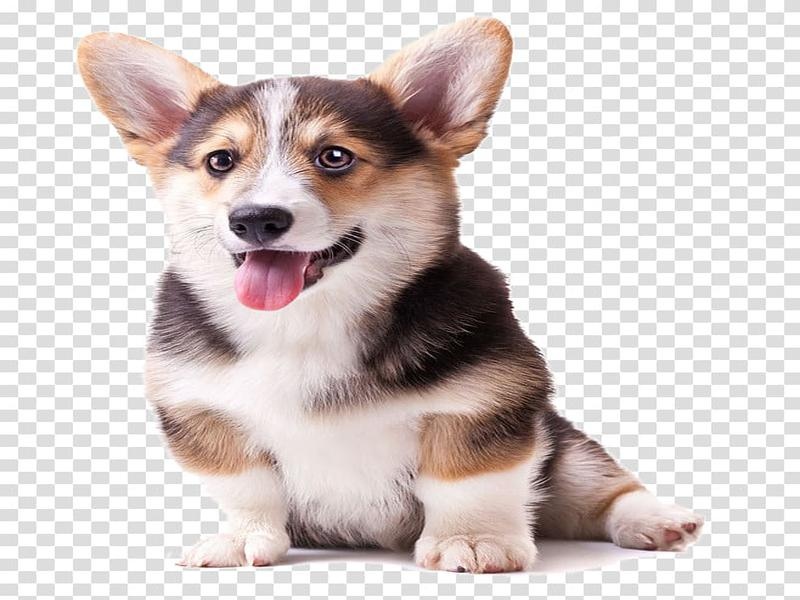corgi: (77, 16, 516, 313)
